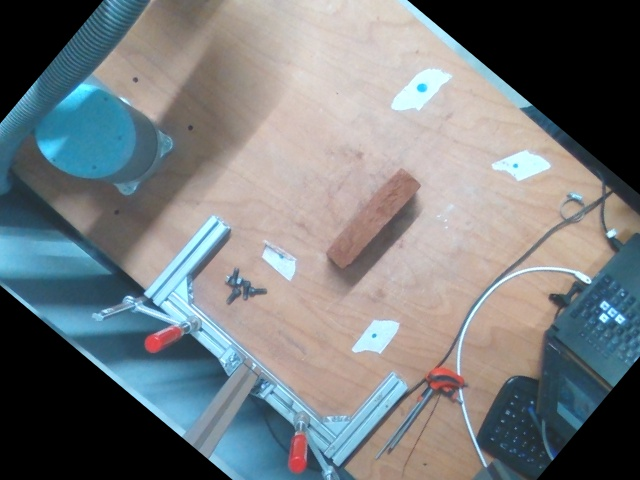brick-side: (326, 165, 421, 268)
